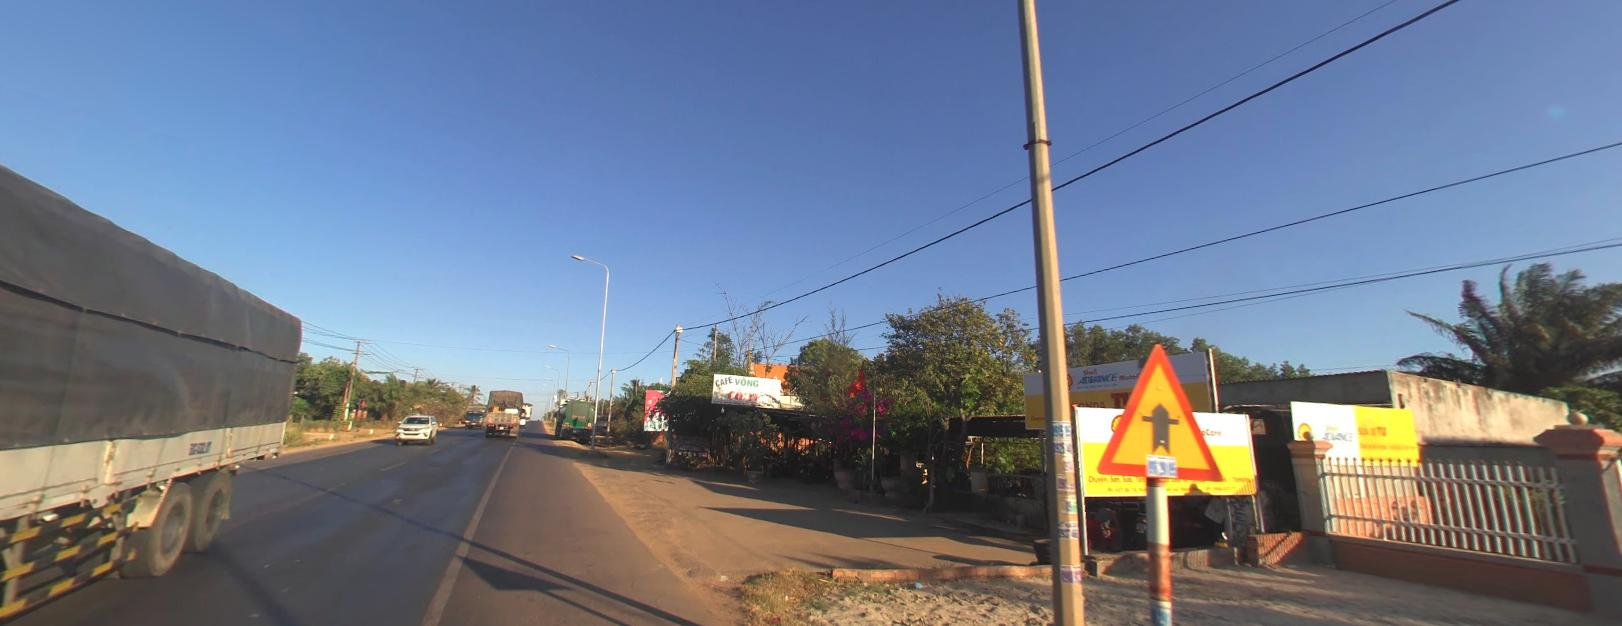Nguy hiem: (1093, 338, 1229, 483), (1099, 340, 1224, 480)
